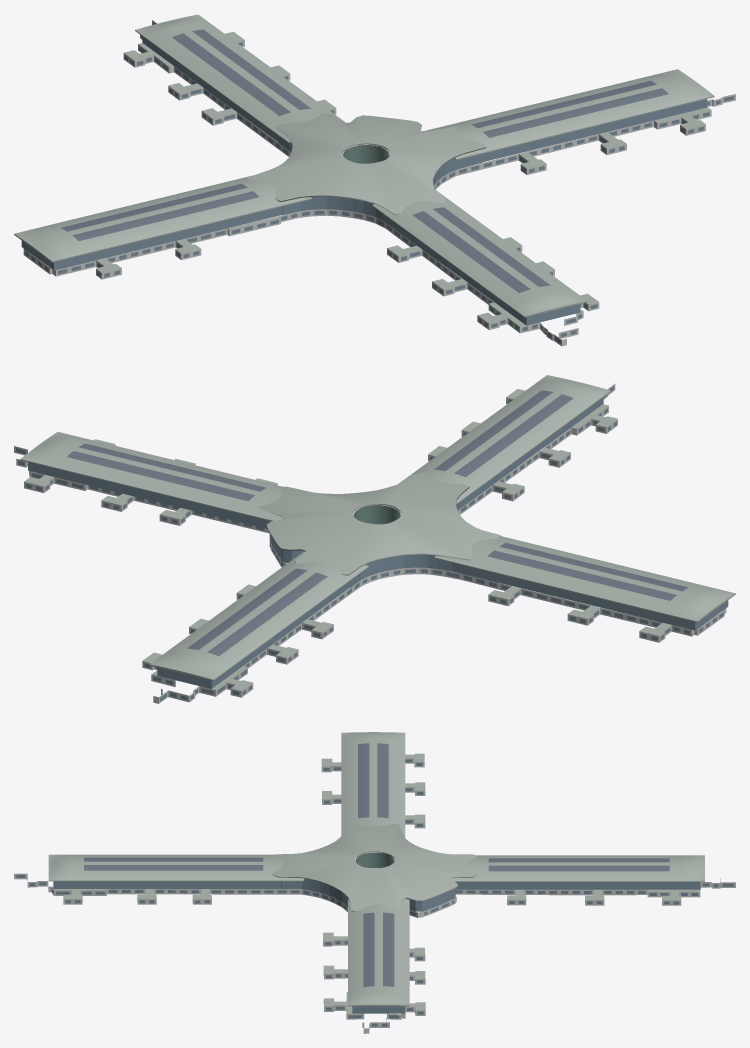
File: kl-klia-satellite-a.detail.glb
The picture shows the model from 3 angles, top to bottom: view 1: azimuth 30°, elevation 25°; view 2: azimuth 150°, elevation 25°; view 3: azimuth 270°, elevation 25°; orthographic projection. The views are drawn at different scales.
Visible parts, largest first — view 1: KLIA Satellite Building A; view 2: KLIA Satellite Building A; view 3: KLIA Satellite Building A.
Boxes of the visible parts, x1,y1,x2,y2 form: KLIA Satellite Building A: [14, 14, 735, 346]; KLIA Satellite Building A: [14, 375, 735, 703]; KLIA Satellite Building A: [14, 732, 735, 1033].
Bounding box in the file's own units: 659 × 27.7 × 705.
